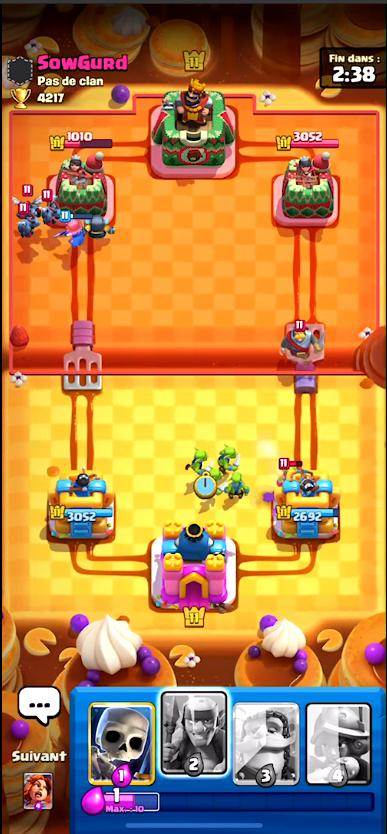chevalier: (280, 320, 325, 358)
gargouille: (15, 185, 43, 214), (40, 190, 58, 225), (15, 205, 33, 235)
gobelin: (218, 444, 241, 474), (222, 472, 249, 497), (186, 448, 209, 473), (278, 460, 301, 478)
mini_PEKKA: (85, 208, 116, 241)
valkyrie: (59, 211, 88, 252)
